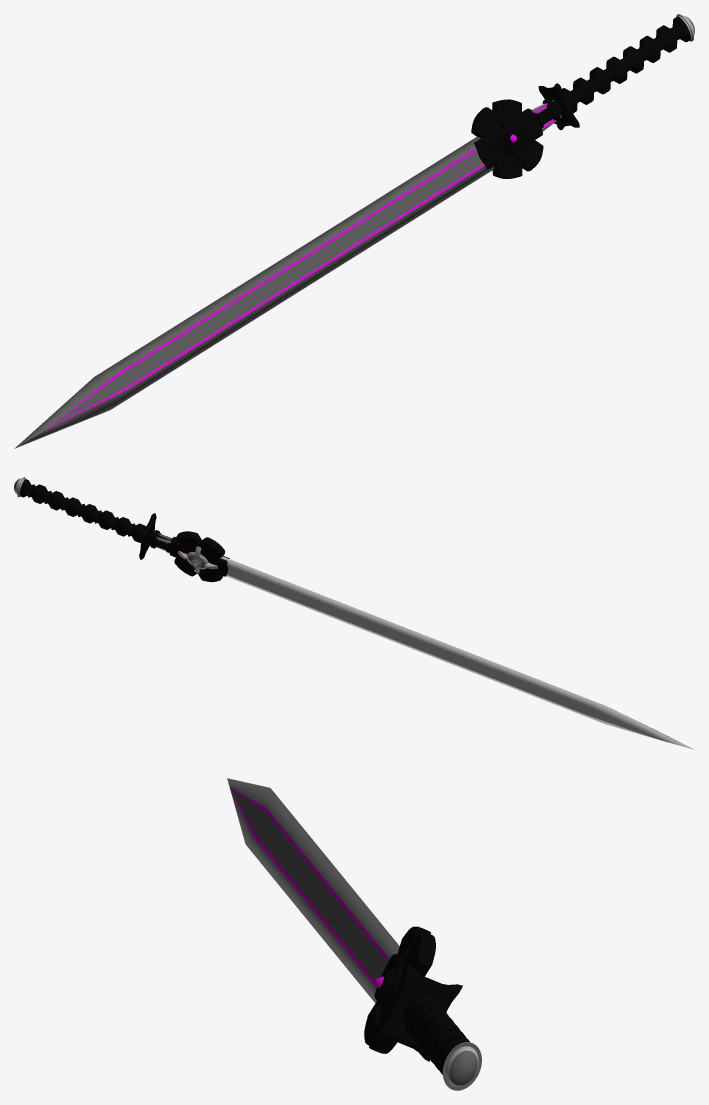
The model's file is sword_b23587bc.glb.
The picture shows the model from 3 angles, top to bottom: view 1: azimuth 30°, elevation 25°; view 2: azimuth 150°, elevation 25°; view 3: azimuth 270°, elevation 25°; orthographic projection. The views are drawn at different scales.
Parts seen in each view (by area): view 1: blinn2, mia_material_x1 (×5), lambert3; view 2: lambert1, mia_material_x1 (×3); view 3: blinn2 (×2), mia_material_x1 (×4), lambert3.
Boxes of the visible parts, x1,y1,x2,y2 form: blinn2: (14, 103, 556, 448); mia_material_x1 (×5): (471, 83, 579, 178); lambert3: (45, 100, 555, 430); lambert1: (150, 531, 693, 749); mia_material_x1 (×3): (169, 531, 229, 582); blinn2 (×2): (227, 778, 481, 1090); mia_material_x1 (×4): (364, 926, 462, 1061); lambert3: (230, 788, 389, 987).
Size of the model in its own units: 0.7564 by 0.1938 by 0.1344.
